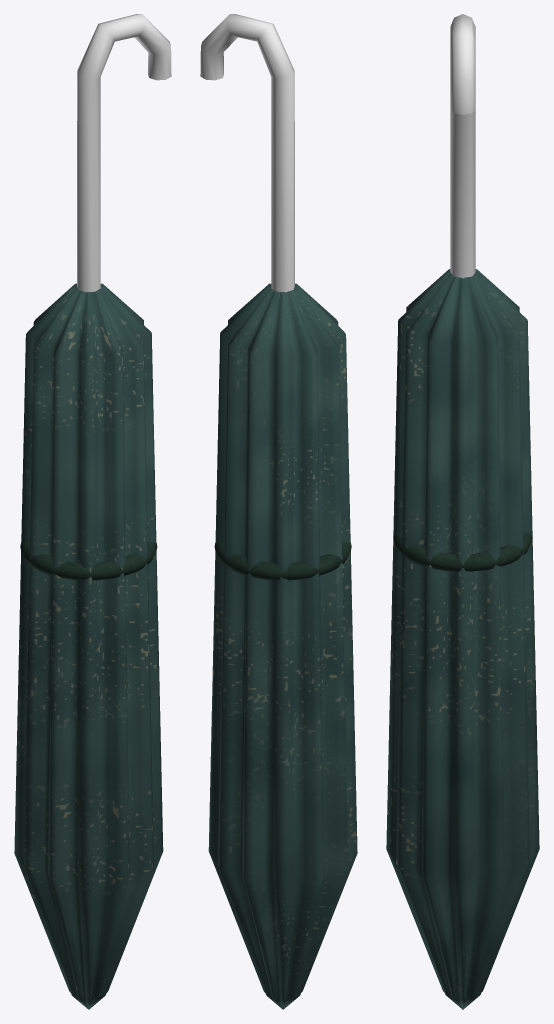
Rendered from Umbrella.fbx.
3 renders of one model, left to right at view 1: azimuth 30°, elevation 25°; view 2: azimuth 150°, elevation 25°; view 3: azimuth 270°, elevation 25°, orthographic.
Parts seen in each view (by area): view 1: Umbrella_BookBlue, Umbrella_Walnut, Umbrella_Leather; view 2: Umbrella_BookBlue, Umbrella_Walnut, Umbrella_Leather; view 3: Umbrella_BookBlue, Umbrella_Walnut, Umbrella_Leather.
Part boxes in pixels (x1,y1,x2,y2): Umbrella_BookBlue: [14, 283, 163, 1009]; Umbrella_Walnut: [77, 14, 171, 292]; Umbrella_Leather: [20, 542, 157, 580]; Umbrella_BookBlue: [208, 283, 357, 1009]; Umbrella_Walnut: [200, 14, 294, 292]; Umbrella_Leather: [214, 542, 351, 580]; Umbrella_BookBlue: [386, 269, 539, 1009]; Umbrella_Walnut: [450, 14, 475, 277]; Umbrella_Leather: [393, 532, 532, 571].
Size of the model in its own units: 16.54 by 106 by 14.69.
